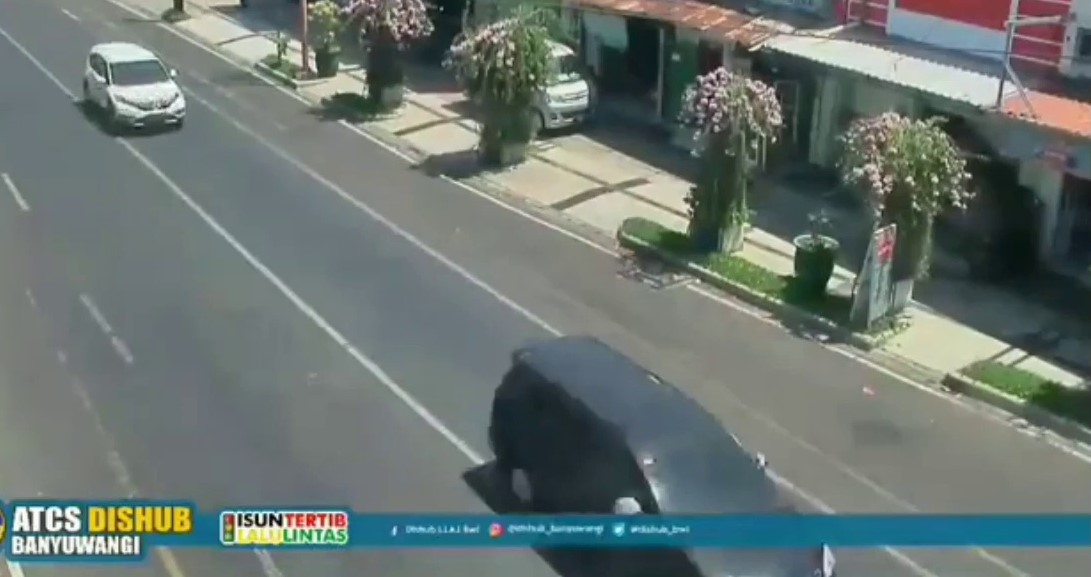car: (479, 327, 845, 577), (86, 40, 183, 136), (521, 38, 594, 137)
